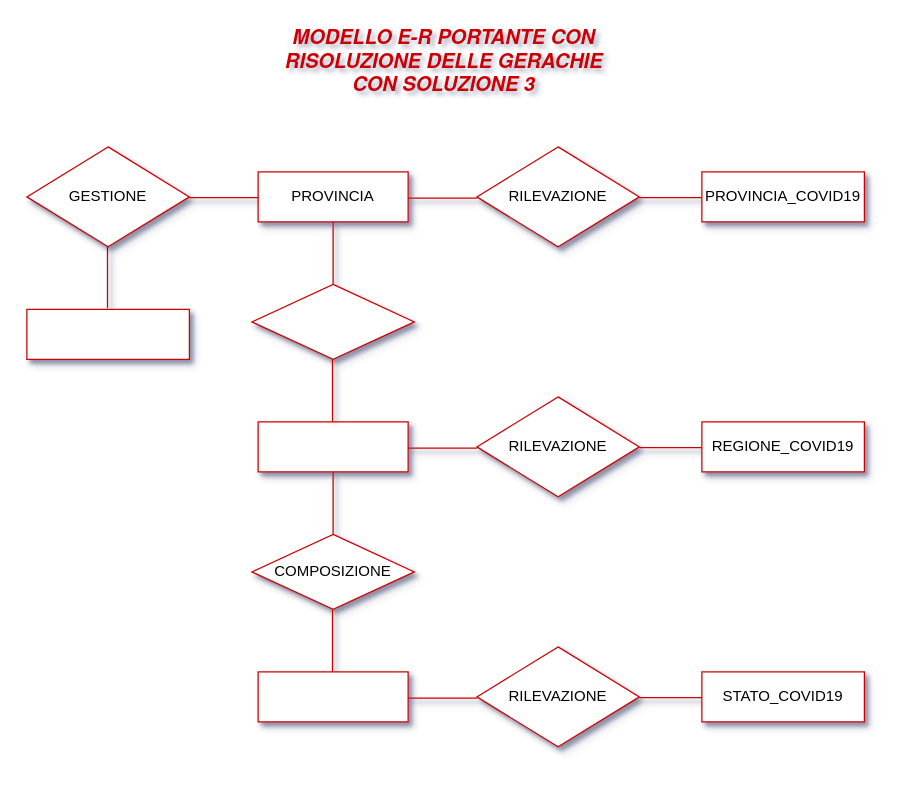
Image size: 901x785. Some labels were removed from this diagram. Each missing label, with the centre of its shape:
"APPARTENENZA" goes at pixel 334 323.
"AZIENDE_SANITARIE" goes at pixel 109 335.
"REGIONE" goes at pixel 334 448.
"STATO" goes at pixel 334 698.
